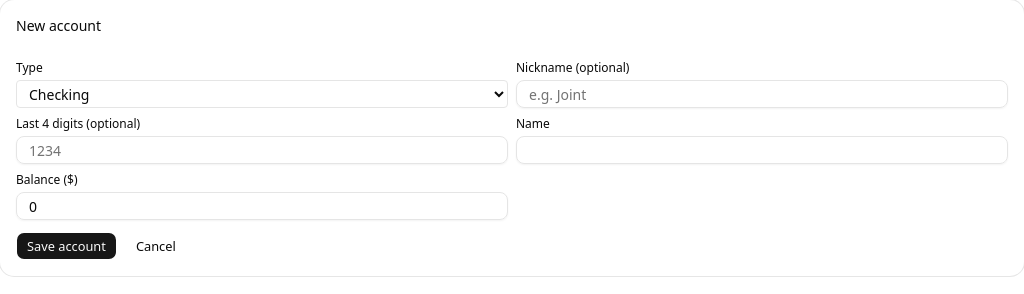
Test: AddAccountForm › changes the visible per-type fields when type is changed
Expected: the number field labelled "Balance ($)" is shown, [16,192,508,220]
Select "Property" in the dropdown labelled "Type" at (262, 94), box [16,80,508,108]
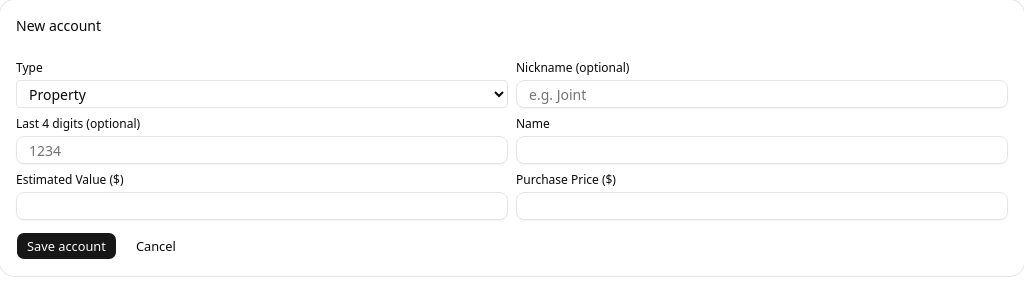
Expected: the label labelled "Balance" is gone
Expected: the number field labelled "Estimated Value ($)" is shown, [16,192,508,220]
